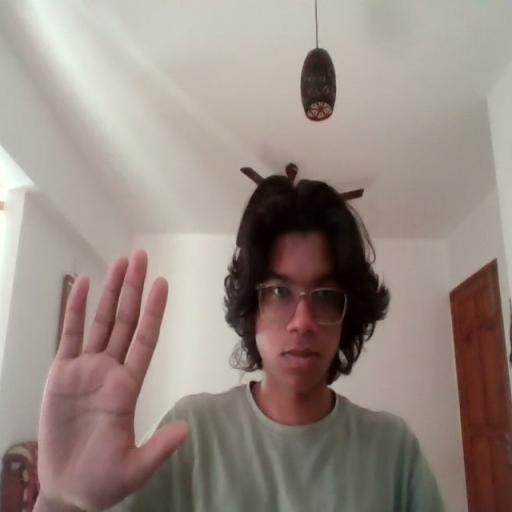Paper: (36, 250, 192, 506)
